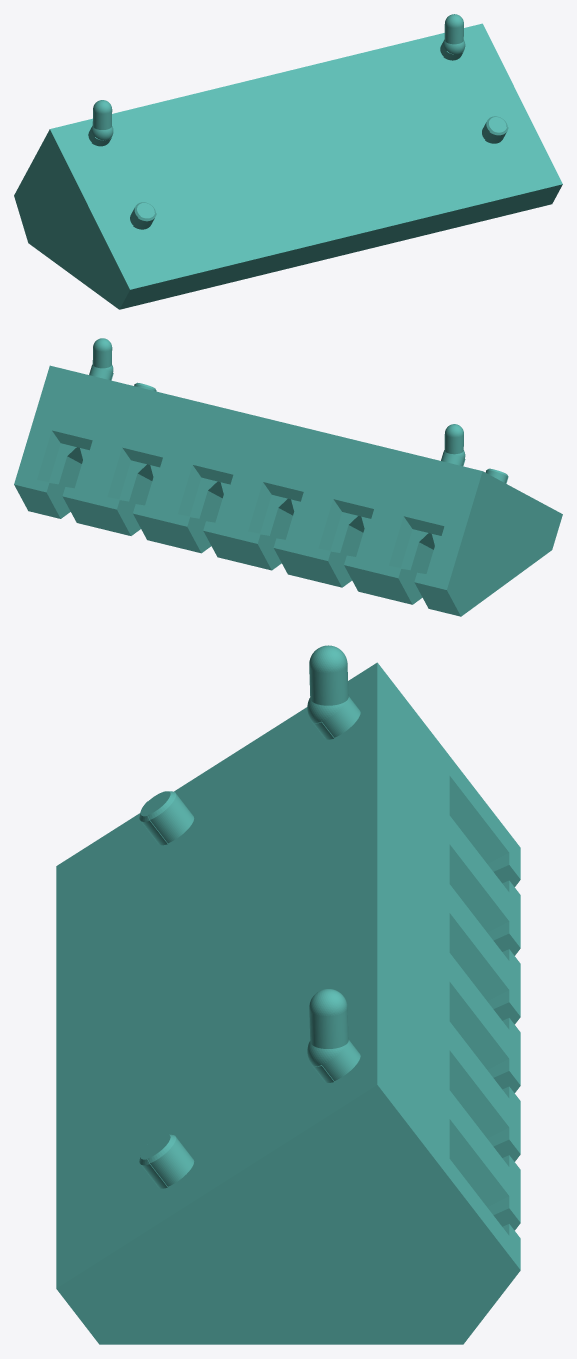
File: part-sd01__v3__flat-b-print.glb
3 renders of one model, top to bottom at view 1: azimuth 30°, elevation 25°; view 2: azimuth 150°, elevation 25°; view 3: azimuth 270°, elevation 25°, orthographic. The views are drawn at different scales.
Parts seen in each view (by area): view 1: Actual holder mesh; view 2: Actual holder mesh; view 3: Actual holder mesh.
Part boxes in pixels (<box>): Actual holder mesh: <box>14,14,562,309</box>; Actual holder mesh: <box>14,338,562,616</box>; Actual holder mesh: <box>56,645,520,1344</box>.
Bounding box in the file's own units: 0.125 × 0.0434 × 0.0581.
